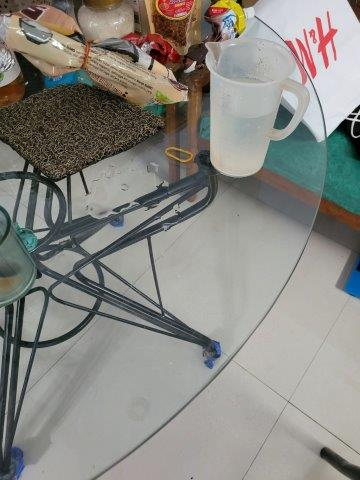karet: (165, 145, 194, 165)
